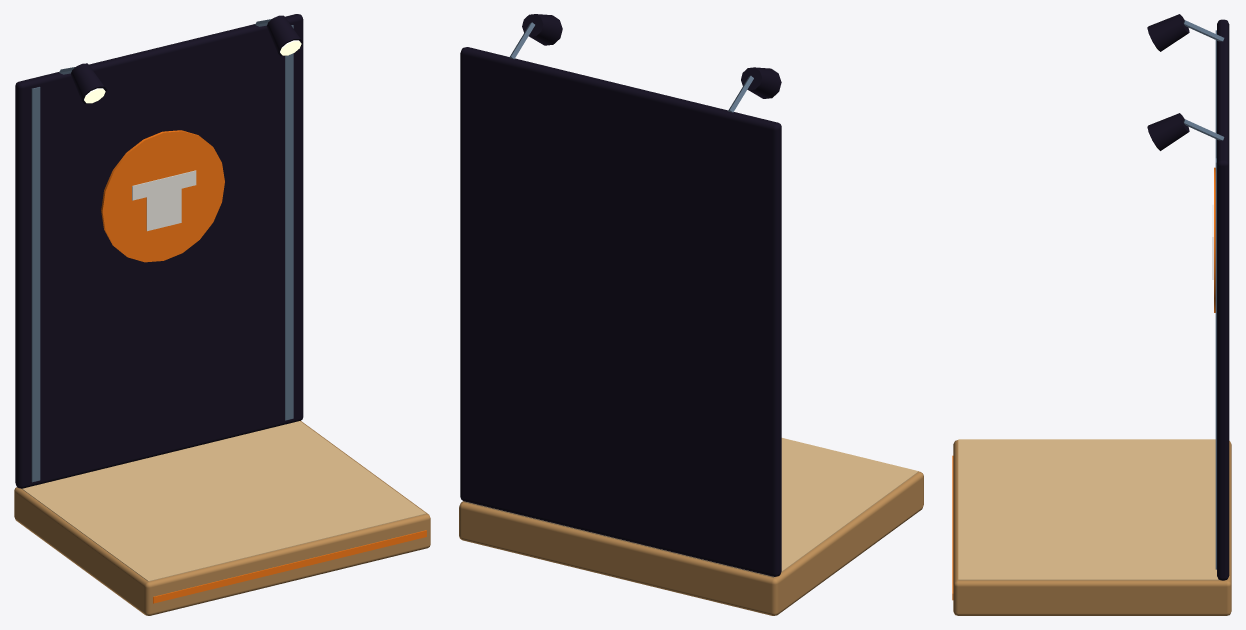
Rendered from station_special_basis.glb.
The picture shows the model from 3 angles, left to right: view 1: azimuth 30°, elevation 25°; view 2: azimuth 150°, elevation 25°; view 3: azimuth 270°, elevation 25°; orthographic projection. The views are drawn at different scales.
Visible parts, largest first — view 1: station_special_basis; view 2: station_special_basis; view 3: station_special_basis.
Part boxes in pixels (x1,y1,x2,y2): station_special_basis: (14,14,430,615); station_special_basis: (459,14,923,615); station_special_basis: (952,14,1231,615).
Size of the model in its own units: 1.4 by 2.17 by 1.14.
